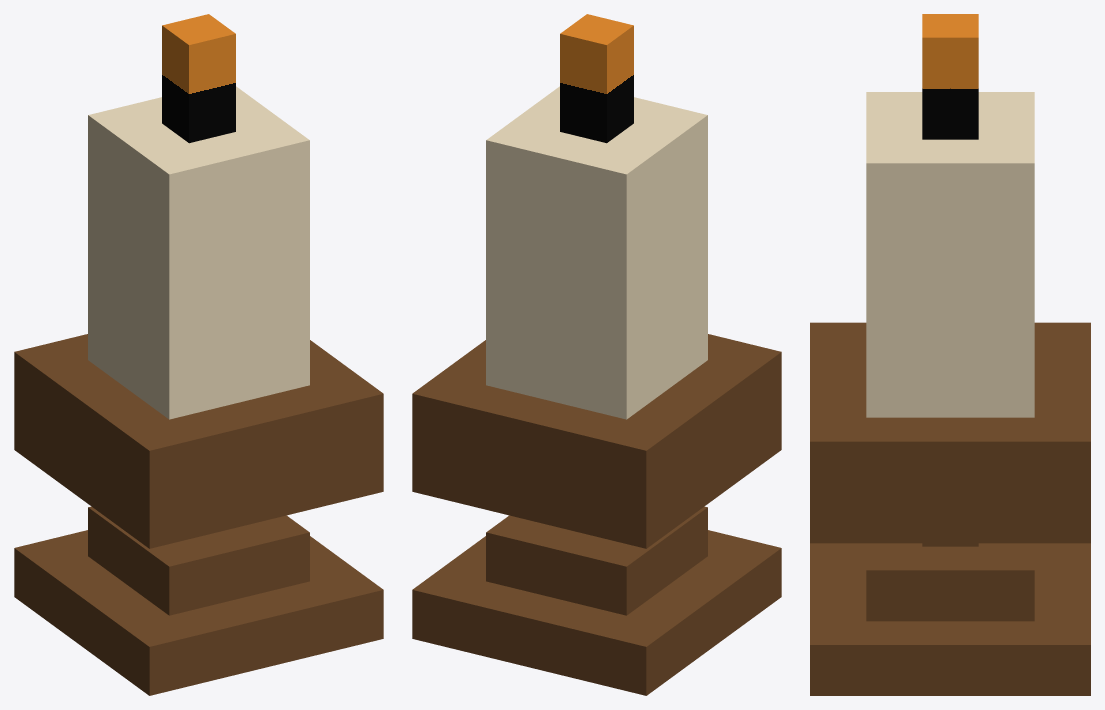
Rendered from Candle.dae.
The picture shows the model from 3 angles, left to right: view 1: azimuth 30°, elevation 25°; view 2: azimuth 150°, elevation 25°; view 3: azimuth 270°, elevation 25°; orthographic projection. The views are drawn at different scales.
Visible parts, largest first — view 1: Candle; view 2: Candle; view 3: Candle.
Boxes of the visible parts, x1,y1,x2,y2 form: Candle: [14, 14, 383, 695]; Candle: [412, 14, 781, 695]; Candle: [810, 14, 1090, 695].
Size of the model in its own units: 5 by 12 by 5.
1 material, 1 textured.
